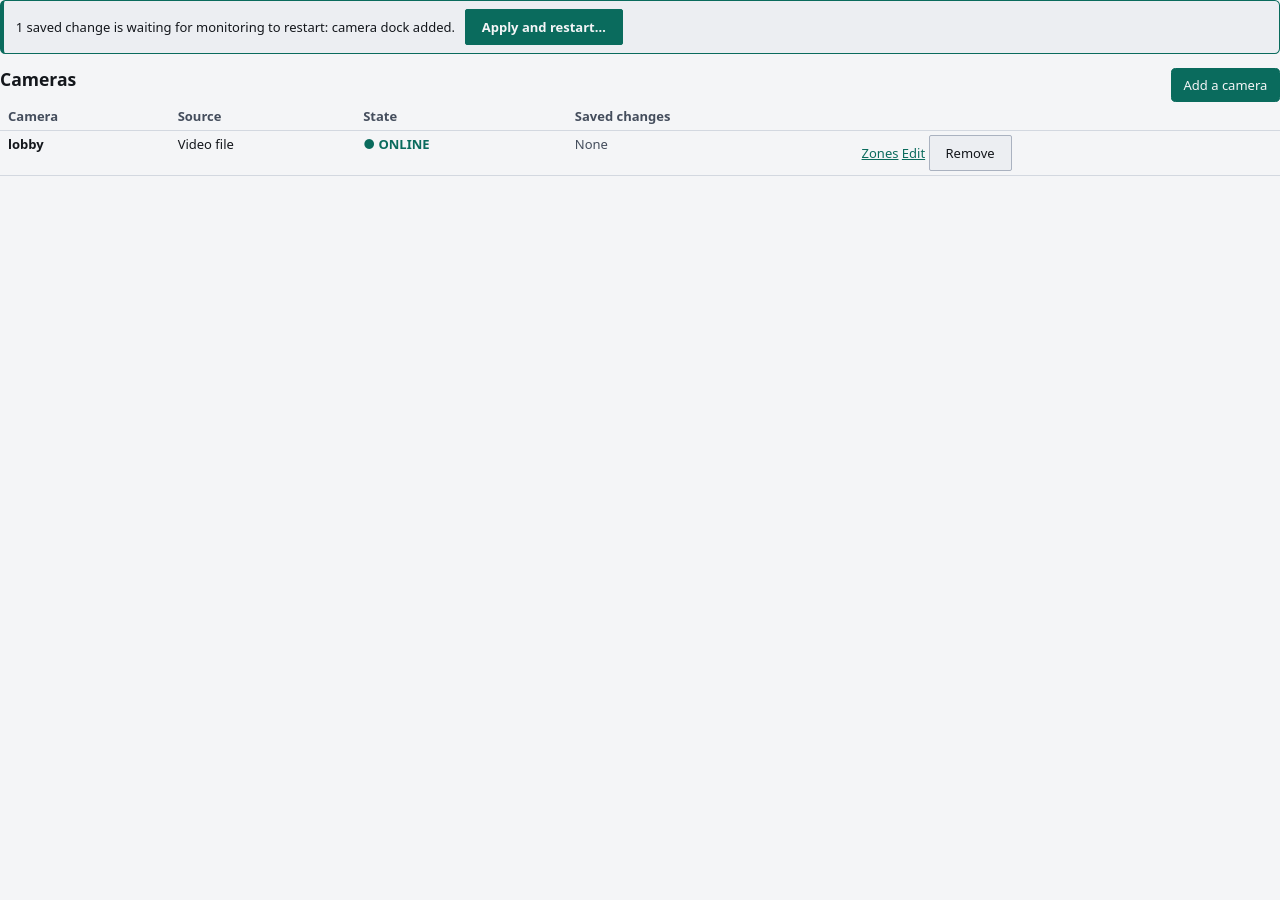
Test: applying saved changes › states the cost, defaults to not restarting, and shows the restart until the engine is back
The image size is (1280, 900).
Expected: the text "1 saved change is waiting" is shown, [16,18,455,36]
Click the button "Apply and restart…": (544, 27) [465,9,623,45]
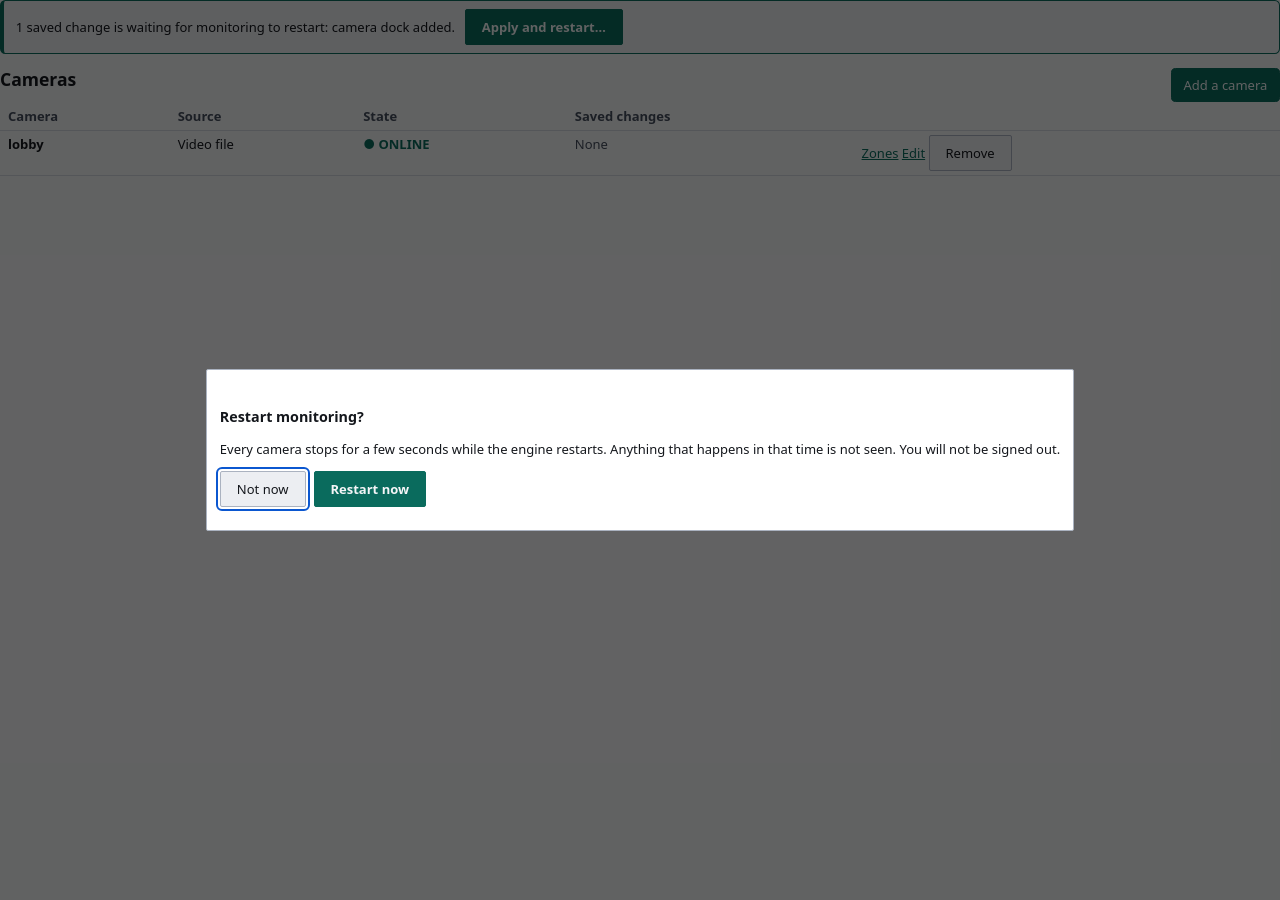
Expected: the text "Anything that happens in that time is not seen" is shown, [220,440,1060,458]
Expected: the button "Not now" is shown, [220,471,306,507]
Click the button "Restart now": (370, 489) [314,471,426,507]
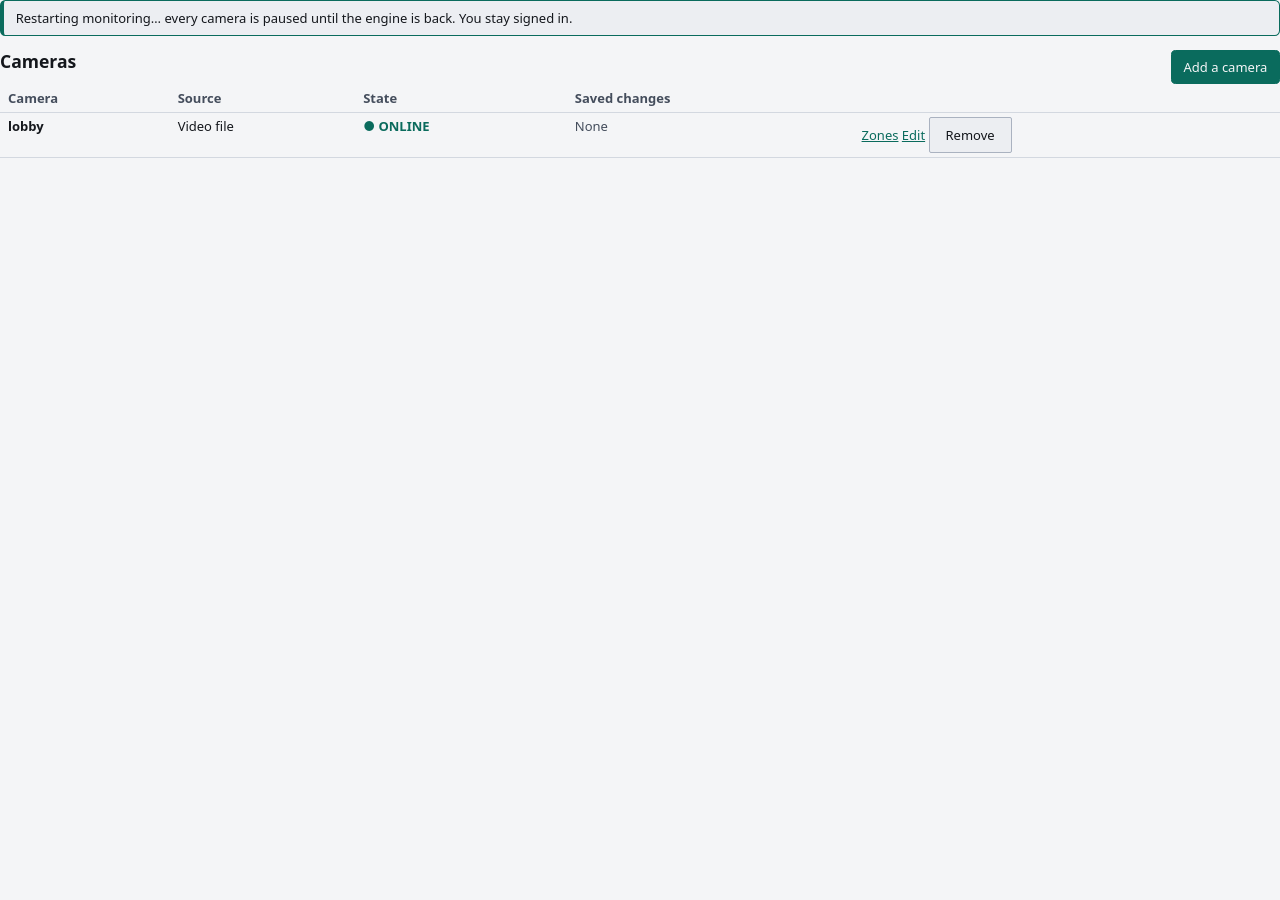
Expected: the text "Restarting monitoring…" is shown, [16,9,572,27]
